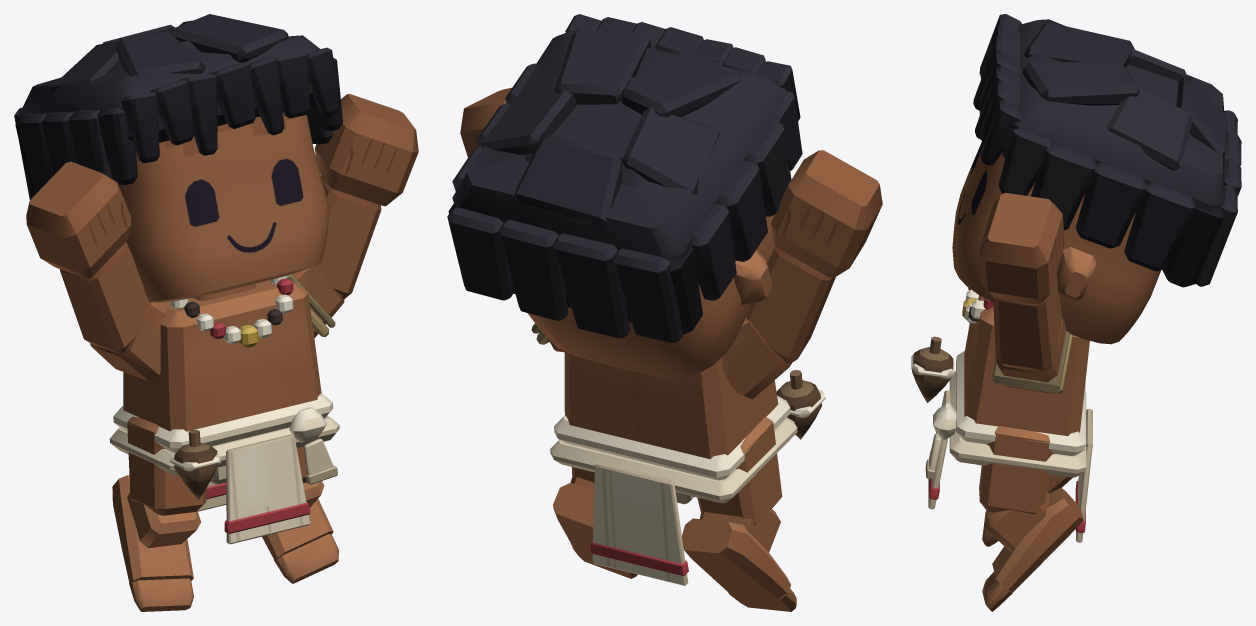
The model's file is audience_v2_boy_cheer.glb.
The picture shows the model from 3 angles, left to right: view 1: azimuth 30°, elevation 25°; view 2: azimuth 150°, elevation 25°; view 3: azimuth 270°, elevation 25°; orthographic projection. The views are drawn at different scales.
Parts seen in each view (by area): view 1: audience_v2_boy_cheer; view 2: audience_v2_boy_cheer; view 3: audience_v2_boy_cheer.
Boxes of the visible parts, x1,y1,x2,y2 form: audience_v2_boy_cheer: (14, 14, 418, 611); audience_v2_boy_cheer: (447, 14, 882, 611); audience_v2_boy_cheer: (911, 14, 1241, 611).
Size of the model in its own units: 0.571 by 0.7659 by 0.4395.
Materials: 1 (1 with a texture image).
